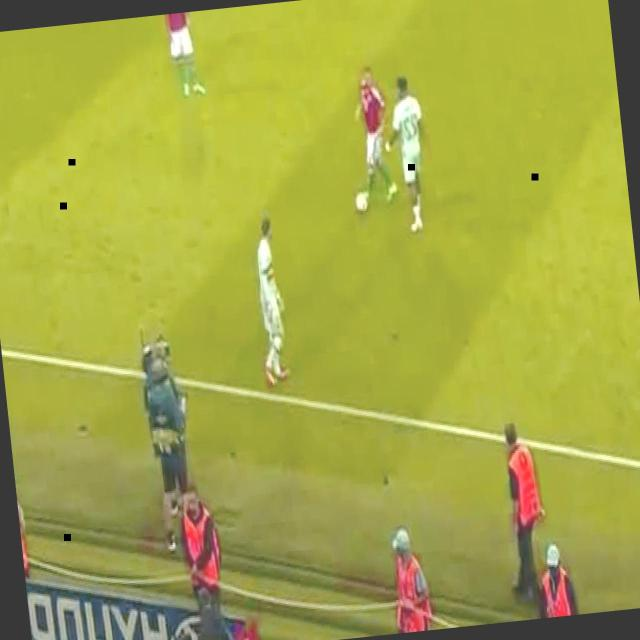ball: (354, 191, 370, 215)
player-white: (378, 73, 433, 235), (249, 217, 293, 391), (349, 66, 399, 206), (163, 11, 207, 98)
